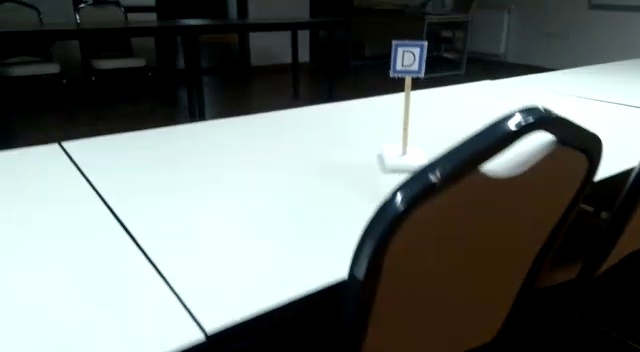durak: (391, 40, 425, 77)
